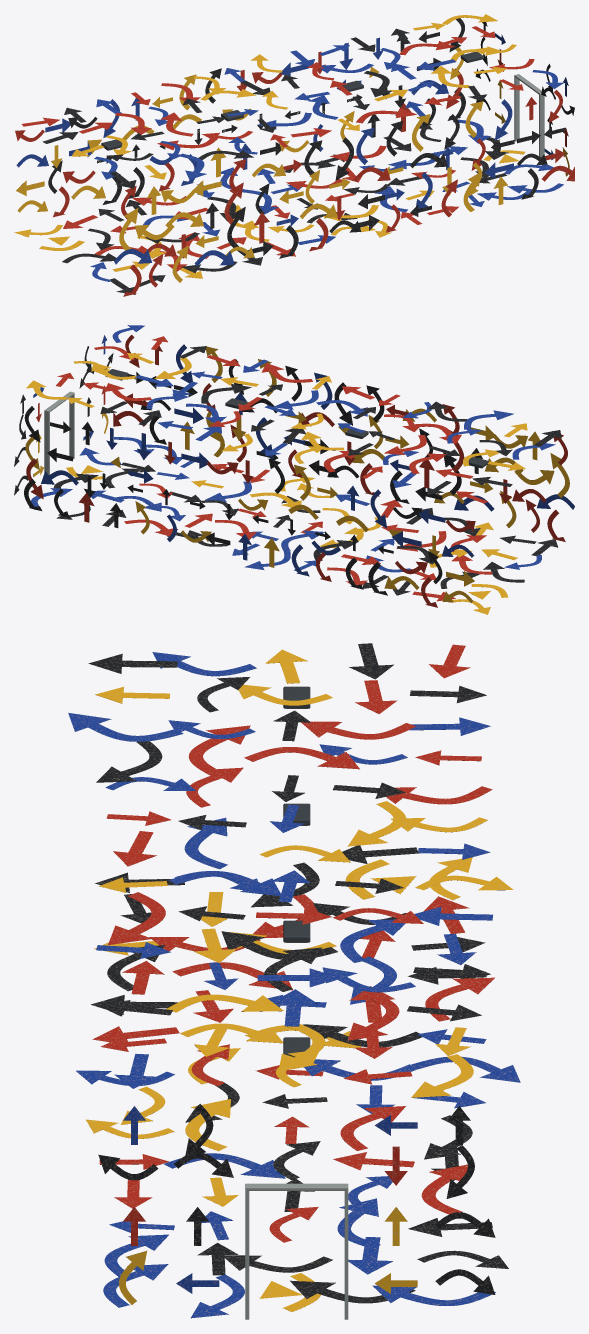
The model's file is SILENT_Room_03_A_Objects.fbx.
3 renders of one model, top to bottom at view 1: azimuth 30°, elevation 25°; view 2: azimuth 150°, elevation 25°; view 3: azimuth 270°, elevation 25°, orthographic. The views are drawn at different scales.
Parts seen in each view (by area): view 1: Room_03_A_Patterns; view 2: Room_03_A_Patterns; view 3: Room_03_A_Patterns.
Boxes of the visible parts, x1,y1,x2,y2 form: Room_03_A_Patterns: [14, 14, 574, 296]; Room_03_A_Patterns: [14, 325, 574, 614]; Room_03_A_Patterns: [68, 643, 520, 1318].
Bounding box in the file's own units: 18.19 × 3.98 × 7.53.
Materials: 9 (4 with a texture image).
